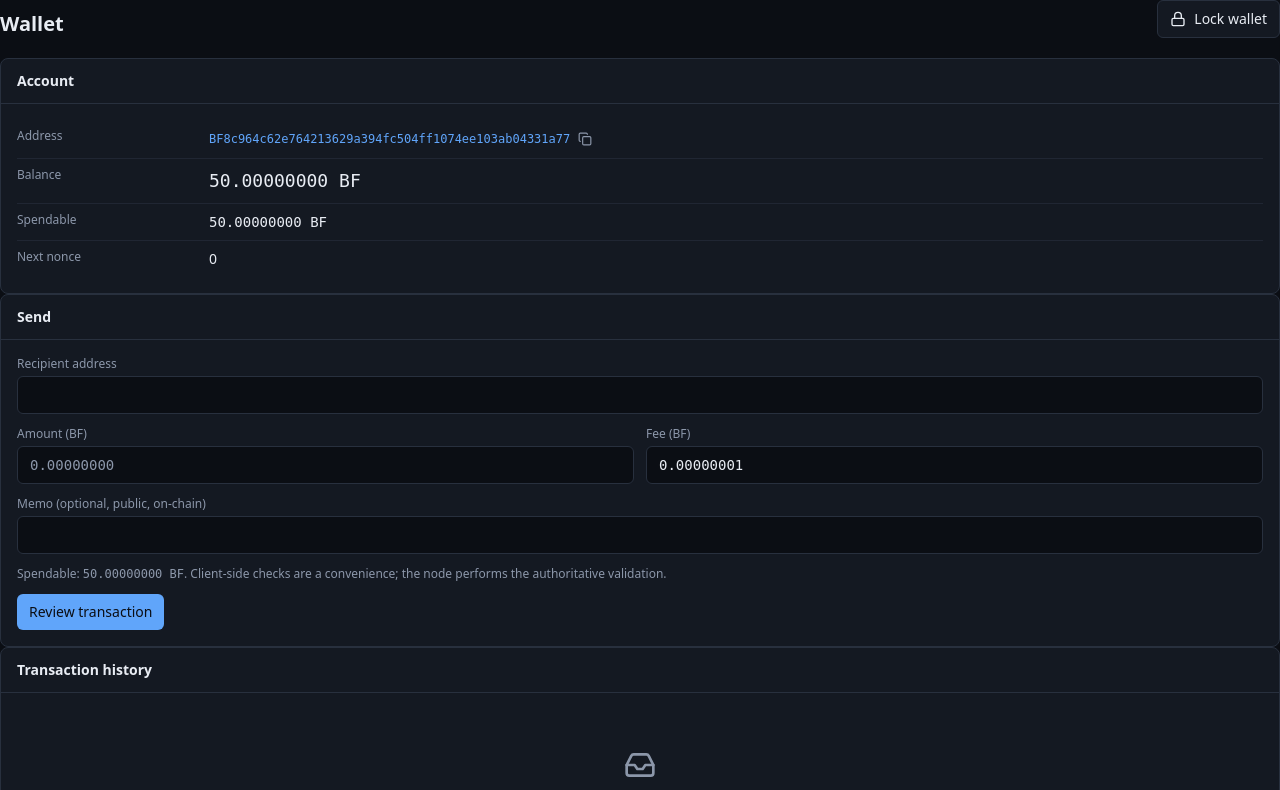
Test: Wallet › surfaces node rejections inside the dialog
Type "BFaf24e45b5c7a186d9444b33f045e6f13f8bd6d0dd95cf396" into the field labelled "Recipient address" at (640, 395), box x1=17 y1=376 x2=1263 y2=414
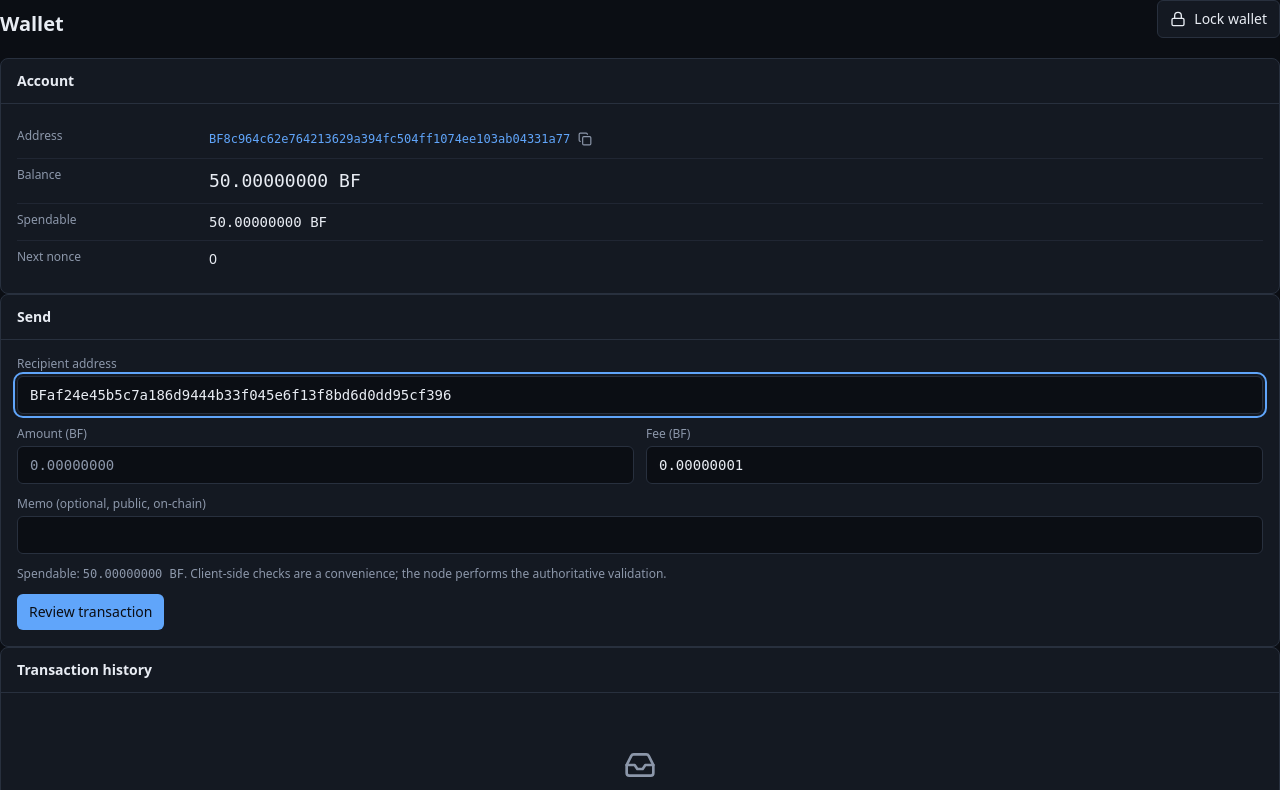
Type "1" into the field labelled "Amount (BF)" at (326, 465), box x1=17 y1=446 x2=634 y2=484
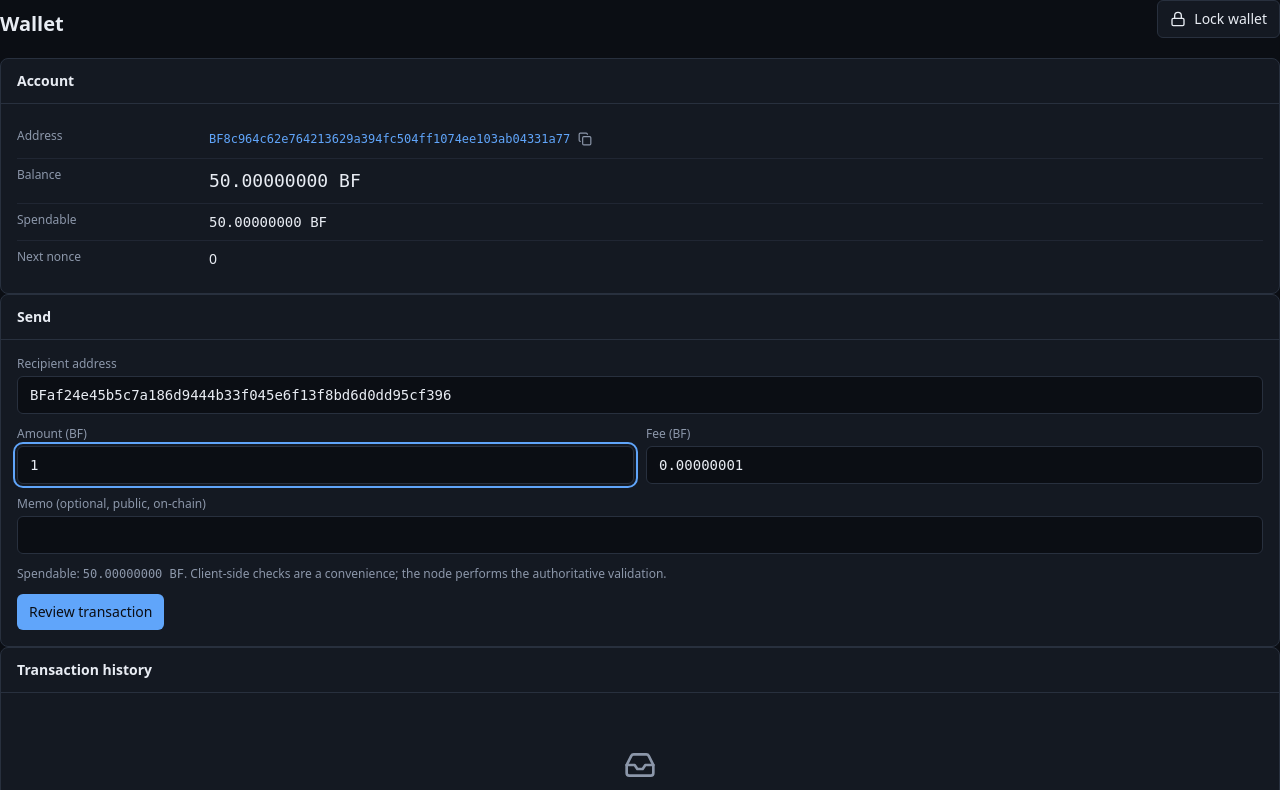
Click the button "Review transaction" at (91, 612), box x1=17 y1=594 x2=164 y2=630
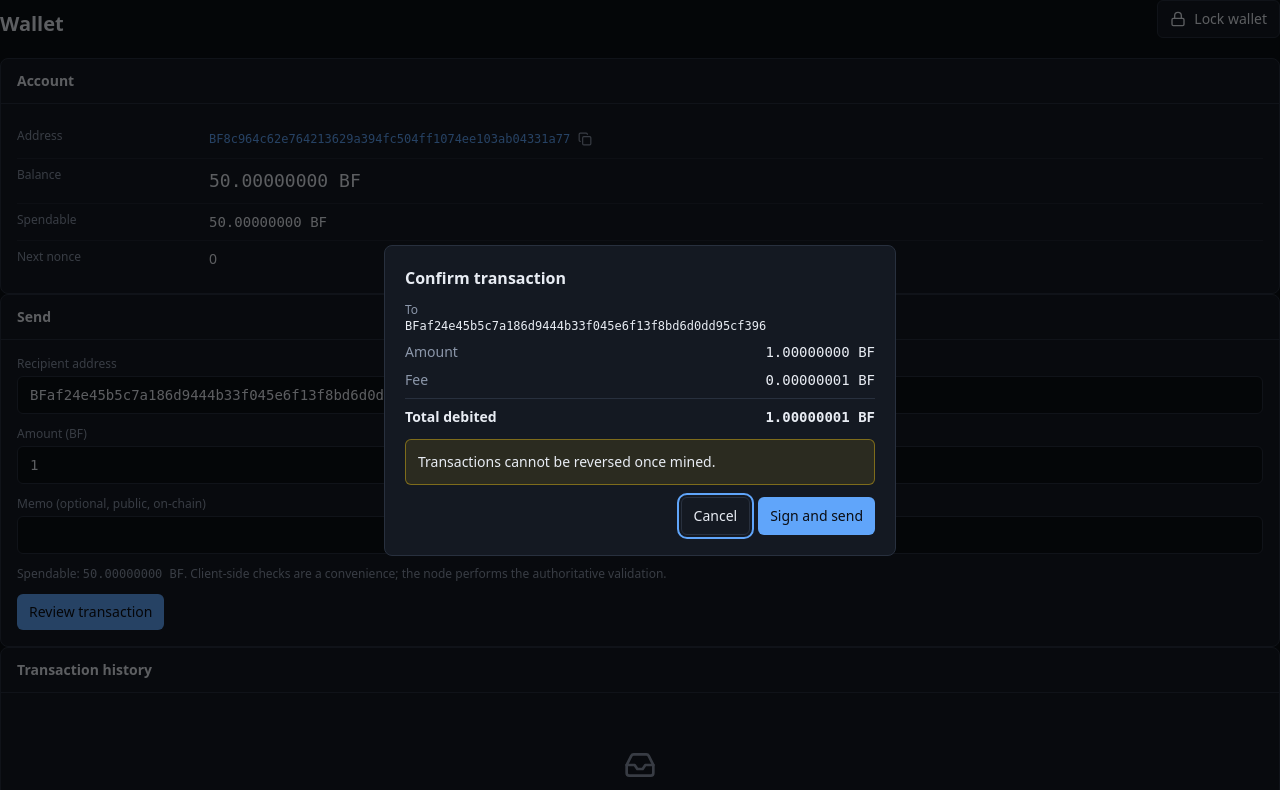
Click the button "Sign and send" at (817, 516), box x1=758 y1=496 x2=875 y2=534
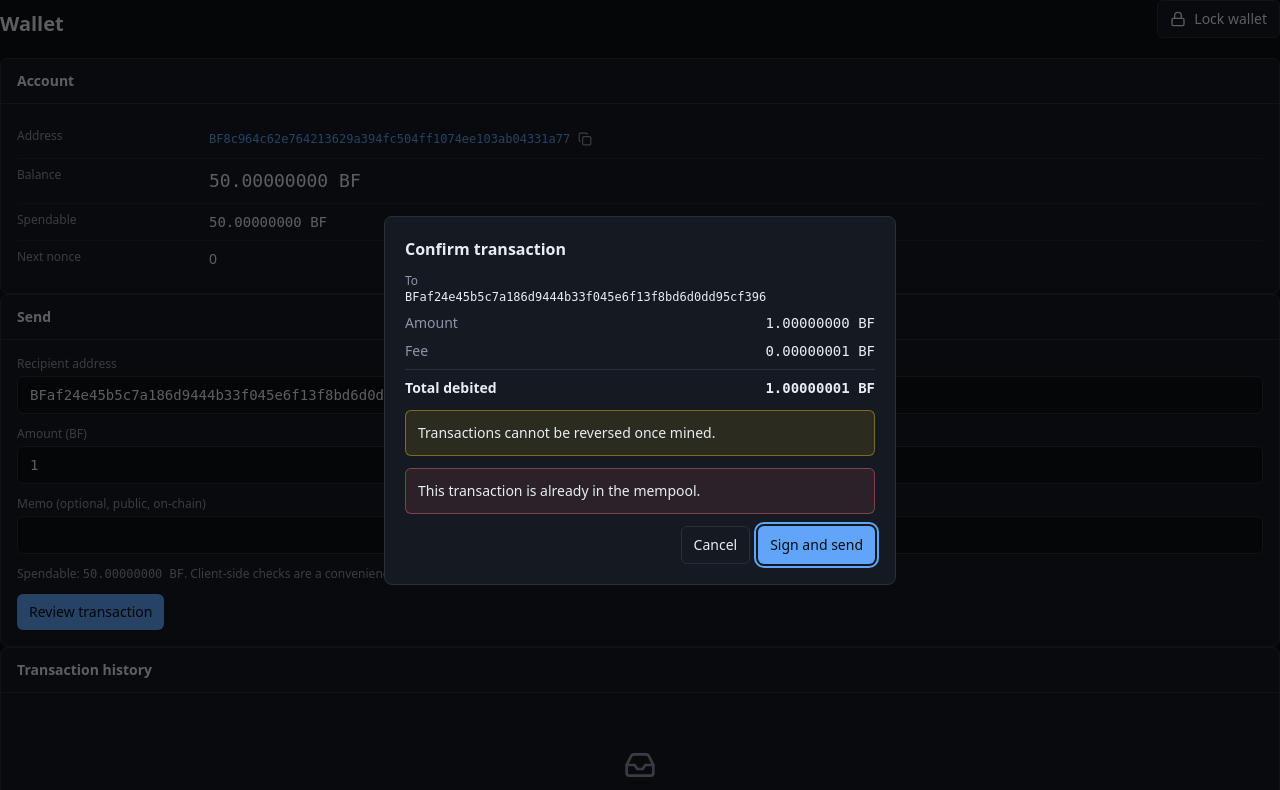
Result: the text "This transaction is already in the mempool." is shown at x1=405 y1=468 x2=875 y2=514
